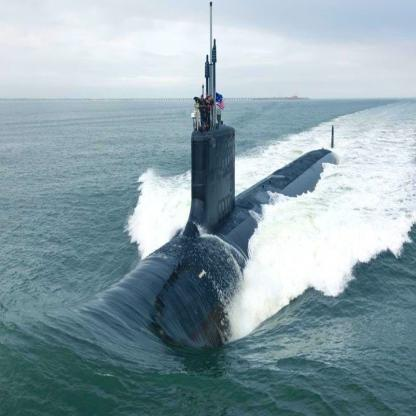Submarine: (86, 0, 339, 350)
